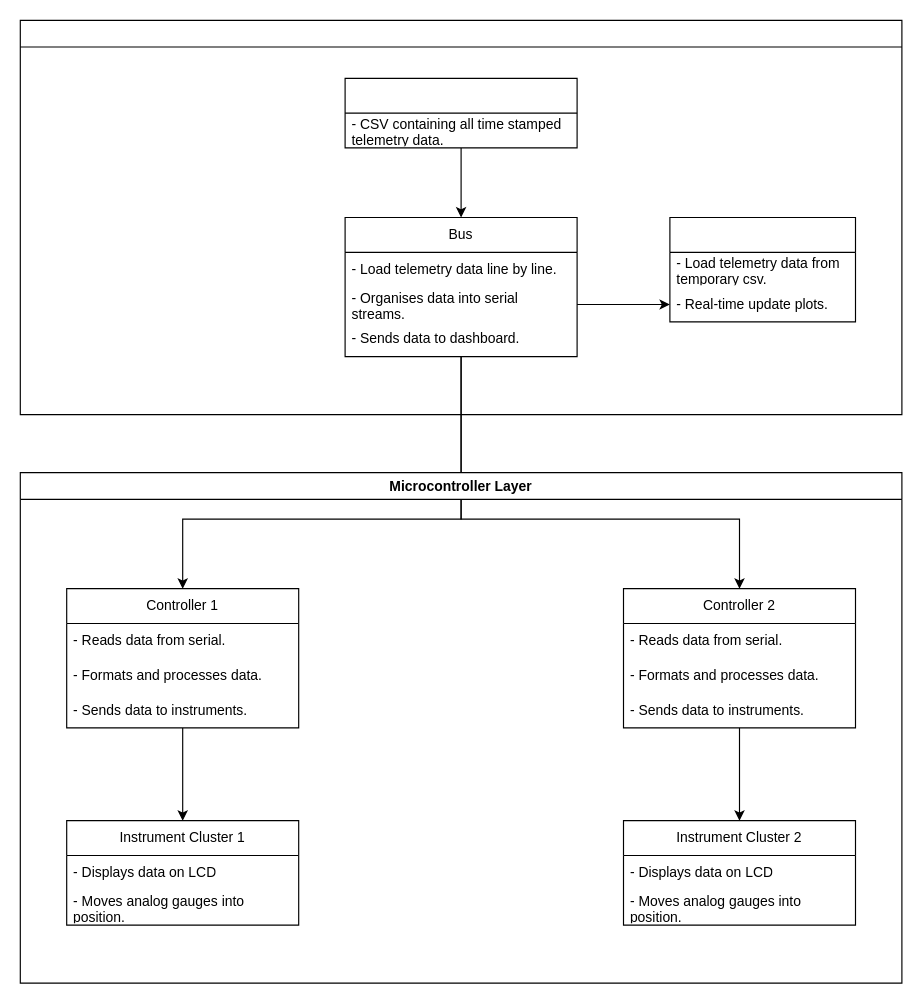
Image size: 922x1003. Some labels were removed from this diagram. The box of each missing label's shape, as (x1, y1, x2, y2) in pixels:
Computer Layer: (19, 19, 902, 415)
Dashboard: (669, 216, 855, 322)
Flight Telemetry Data: (344, 77, 577, 148)
